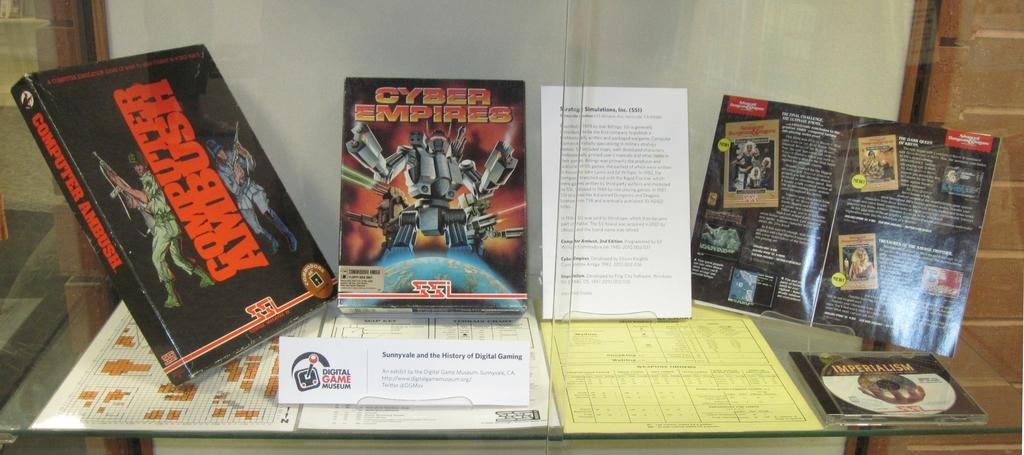book: (10, 74, 336, 402), (686, 90, 997, 333), (324, 80, 543, 317), (544, 84, 706, 336)
